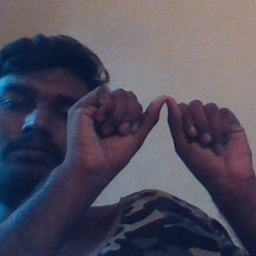A: (85, 83, 234, 184)
